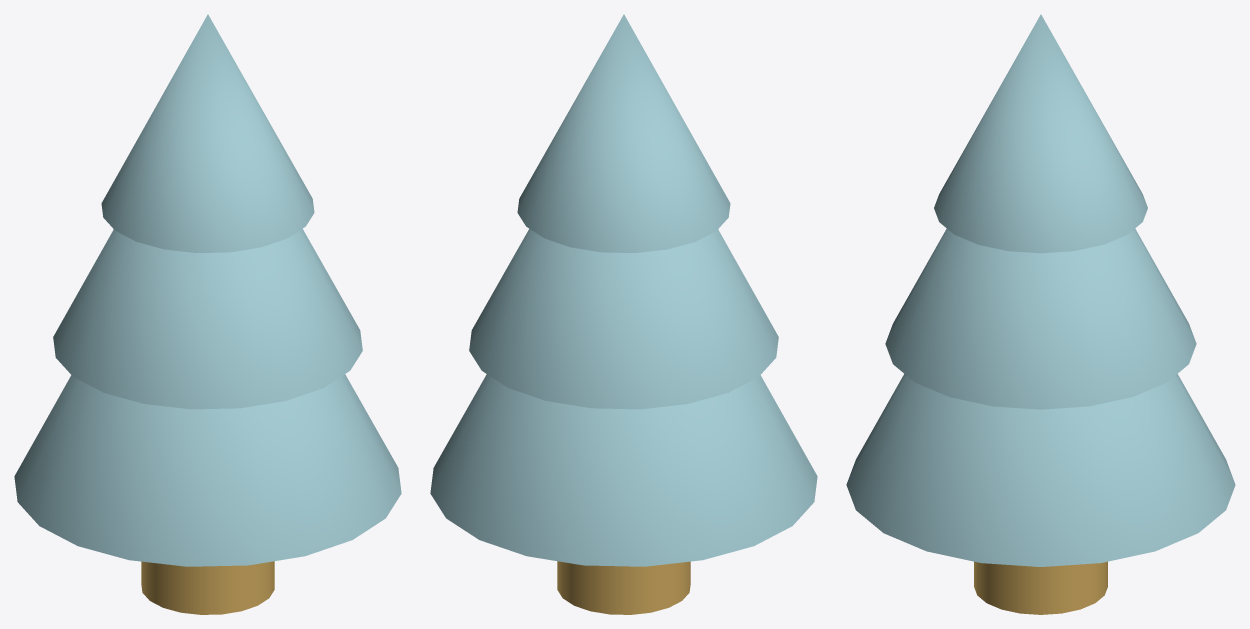
The model's file is pinheiro_azul.fbx.
3 renders of one model, left to right at view 1: azimuth 30°, elevation 25°; view 2: azimuth 150°, elevation 25°; view 3: azimuth 270°, elevation 25°, orthographic.
Visible parts, largest first — view 1: arvore3_12, arvore3_11, arvore3_10, arvore23; view 2: arvore3_12, arvore3_11, arvore3_10, arvore23; view 3: arvore3_12, arvore3_11, arvore3_10, arvore23.
Boxes of the visible parts, x1=… form: arvore3_12: x1=14, y1=374, x2=401, y2=566; arvore3_11: x1=53, y1=229, x2=362, y2=409; arvore3_10: x1=101, y1=14, x2=314, y2=252; arvore23: x1=141, y1=561, x2=274, y2=614; arvore3_12: x1=430, y1=374, x2=817, y2=566; arvore3_11: x1=469, y1=229, x2=778, y2=409; arvore3_10: x1=517, y1=14, x2=730, y2=252; arvore23: x1=557, y1=561, x2=690, y2=614; arvore3_12: x1=846, y1=374, x2=1235, y2=566; arvore3_11: x1=885, y1=228, x2=1196, y2=409; arvore3_10: x1=934, y1=14, x2=1147, y2=253; arvore23: x1=974, y1=561, x2=1107, y2=614.
Size of the model in its own units: 1.96 by 3.18 by 1.96.
